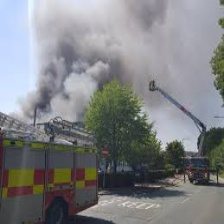smoke: (26, 1, 170, 119)
